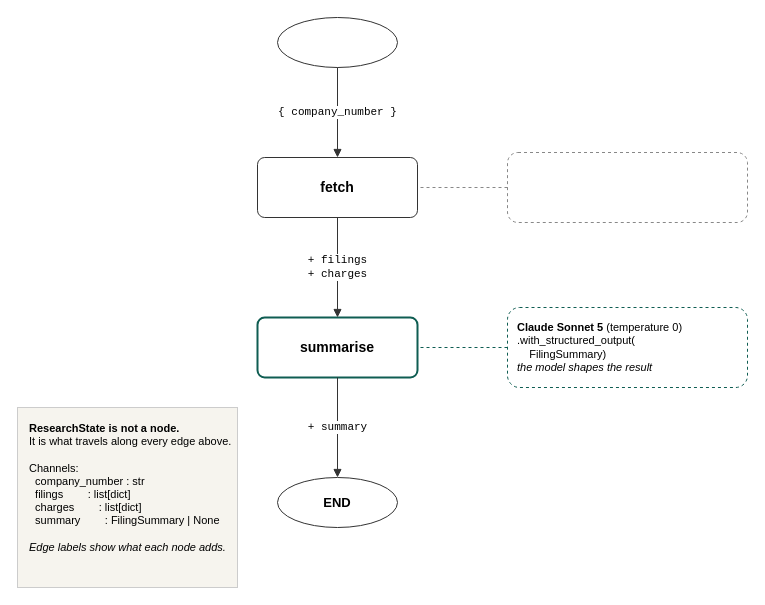
The diagram is 765 pixels wide and 605 high, and some of its shapes have lost their labels. Here are the shapes that lost their labels. From the top down, the box of each, then its label:
(276, 16, 398, 68): START
(506, 152, 748, 222): pure Python ch_fh.get_filing_history() ch_ch.get_charges() no model in this node
